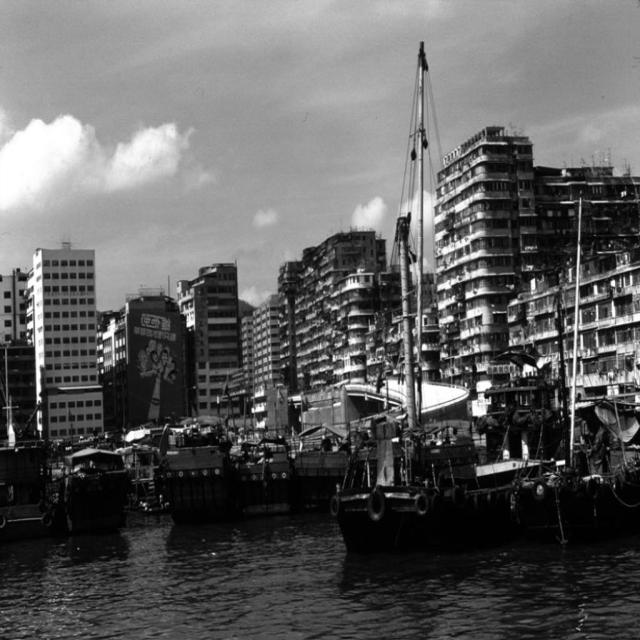Boat: (324, 362, 578, 544), (564, 374, 639, 536), (152, 414, 238, 534), (64, 443, 146, 554), (0, 406, 56, 543), (236, 430, 316, 521), (290, 410, 351, 508)
